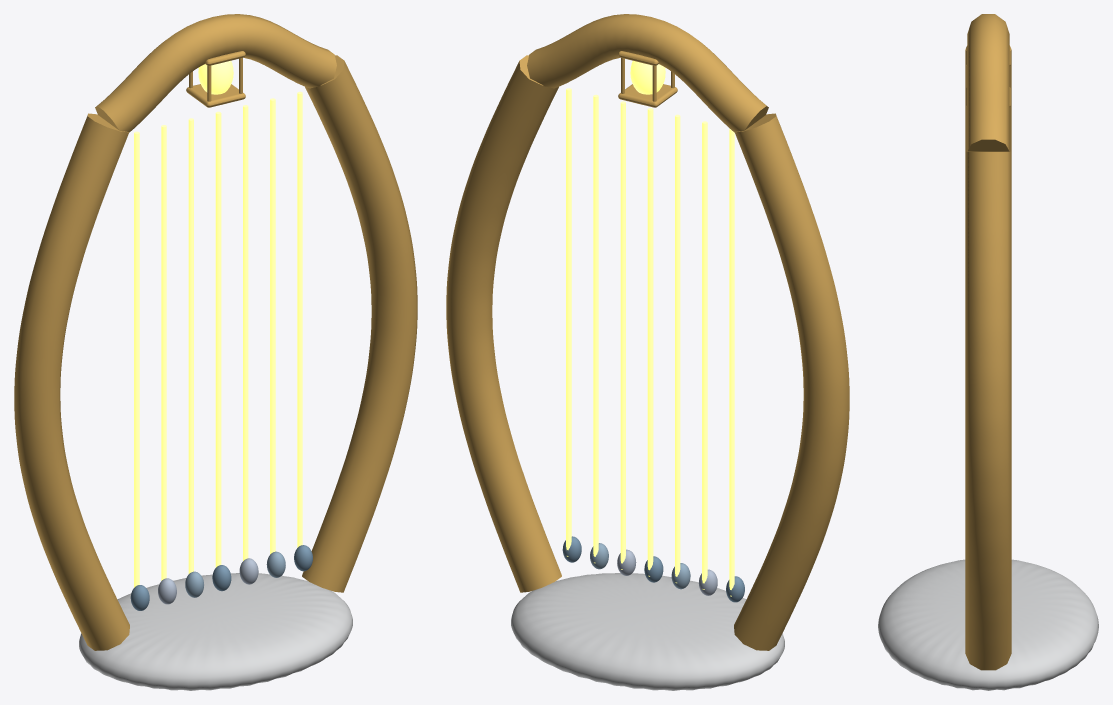
File: MoonHarp.glb
3 views of the same model, side by side, from view 1: azimuth 30°, elevation 25°; view 2: azimuth 150°, elevation 25°; view 3: azimuth 270°, elevation 25° (orthographic). The views are drawn at different scales.
Visible parts, largest first — view 1: Harp crescent frame.001, Harp crescent frame, Harp stone base, Harp crown, Harp luminous string.003, Harp luminous string, Harp luminous string.001, Harp luminous string.004, Harp luminous string.005, Harp luminous string.006, Harp luminous string.002, Warm glass (+1 smaller); view 2: Harp crescent frame.001, Harp crescent frame, Harp stone base, Harp crown, Harp luminous string.003, Harp luminous string.001, Harp luminous string.005, Harp luminous string.002, Harp luminous string, Harp luminous string.004, Harp luminous string.006, Warm glass (+1 smaller); view 3: Harp crescent frame, Harp stone base, Harp crown, Harp crescent frame.001.
Part boxes in pixels (x1,y1,x2,y2): Harp crescent frame.001: (14, 113, 129, 650); Harp crescent frame: (302, 55, 417, 592); Harp stone base: (79, 573, 352, 690); Harp crown: (95, 14, 336, 132); Harp luminous string.003: (215, 111, 221, 567); Harp luminous string: (297, 91, 302, 547); Harp luminous string.001: (270, 98, 275, 554); Harp luminous string.004: (188, 118, 193, 573); Harp luminous string.005: (161, 125, 166, 580); Harp luminous string.006: (134, 131, 139, 587); Harp luminous string.002: (243, 105, 248, 560); Warm glass: (198, 60, 233, 94); Harp crescent frame.001: (734, 113, 849, 650); Harp crescent frame: (446, 55, 561, 592); Harp stone base: (511, 573, 784, 690); Harp crown: (527, 14, 768, 132); Harp luminous string.003: (647, 108, 653, 576); Harp luminous string.001: (593, 94, 598, 563); Harp luminous string.005: (702, 121, 707, 589); Harp luminous string.002: (620, 101, 625, 569); Harp luminous string: (566, 88, 571, 556); Harp luminous string.004: (675, 114, 680, 583); Harp luminous string.006: (729, 129, 734, 596); Warm glass: (630, 60, 665, 94); Harp crescent frame: (965, 151, 1011, 670); Harp stone base: (878, 559, 1098, 690); Harp crown: (967, 14, 1009, 151); Harp crescent frame.001: (965, 45, 1011, 151).
Size of the model in its own units: 2.33 by 3.56 by 1.15.
